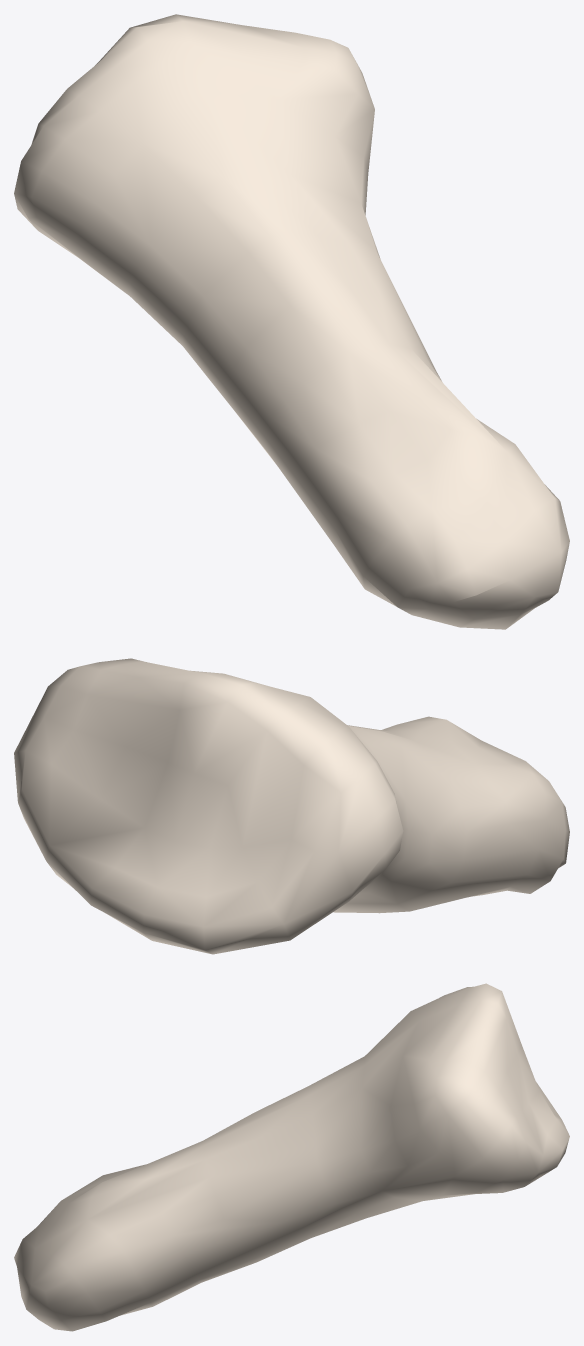
Rendered from left_digit_4_distal.glb.
The picture shows the model from 3 angles, top to bottom: view 1: azimuth 30°, elevation 25°; view 2: azimuth 150°, elevation 25°; view 3: azimuth 270°, elevation 25°; orthographic projection. The views are drawn at different scales.
Visible parts, largest first — view 1: Distal phalanx of 4th finger.r; view 2: Distal phalanx of 4th finger.r; view 3: Distal phalanx of 4th finger.r.
Part boxes in pixels (x1=…): Distal phalanx of 4th finger.r: x1=14, y1=14, x2=569, y2=629; Distal phalanx of 4th finger.r: x1=14, y1=658, x2=569, y2=954; Distal phalanx of 4th finger.r: x1=14, y1=983, x2=569, y2=1331.
Bounding box in the file's own units: 0.00823 × 0.00955 × 0.0154.
